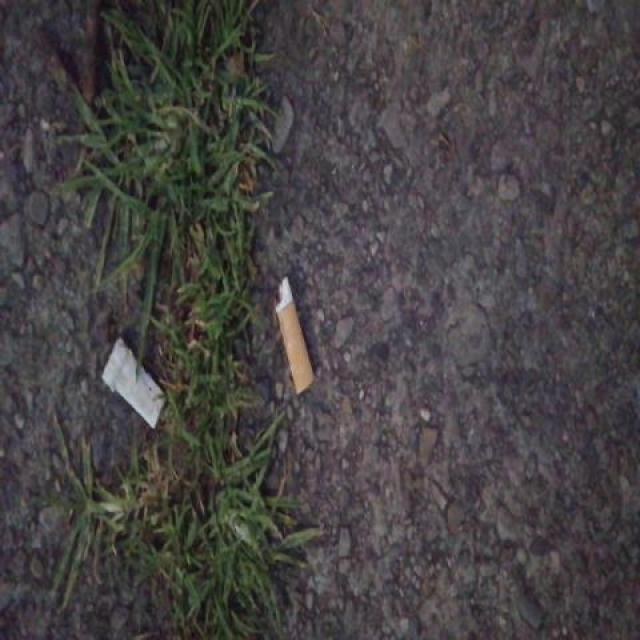non-organic waste: (98, 333, 170, 432), (272, 273, 320, 398)
